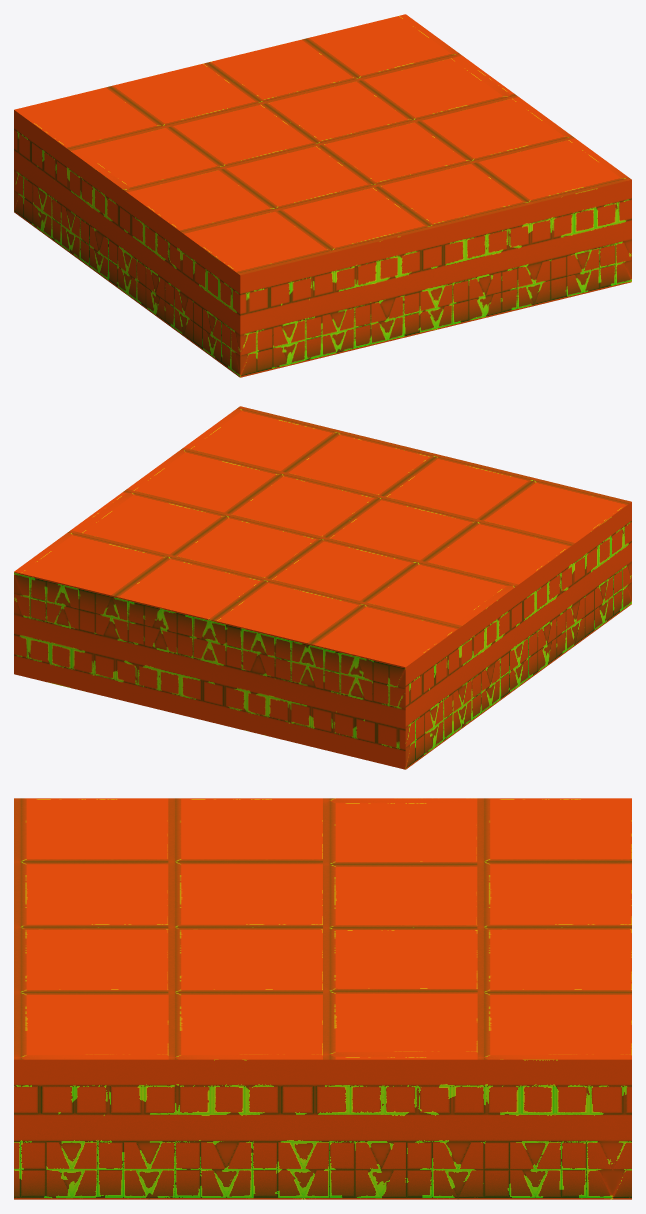
Rendered from Ceiling Block 1.fbx.
The picture shows the model from 3 angles, top to bottom: view 1: azimuth 30°, elevation 25°; view 2: azimuth 150°, elevation 25°; view 3: azimuth 270°, elevation 25°; orthographic projection. The views are drawn at different scales.
Parts seen in each view (by area): view 1: pCube10; view 2: pCube10; view 3: pCube10.
Boxes of the visible parts, x1,y1,x2,y2 form: pCube10: [14, 14, 631, 377]; pCube10: [14, 406, 631, 769]; pCube10: [14, 798, 631, 1199].
Bounding box in the file's own units: 200 × 50 × 200.
